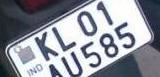0: (74, 9, 99, 35)
5: (113, 21, 138, 48), (79, 40, 101, 66)
8: (98, 32, 119, 57)
K: (32, 30, 59, 60)
L: (50, 25, 77, 50)
U: (59, 51, 85, 76)
